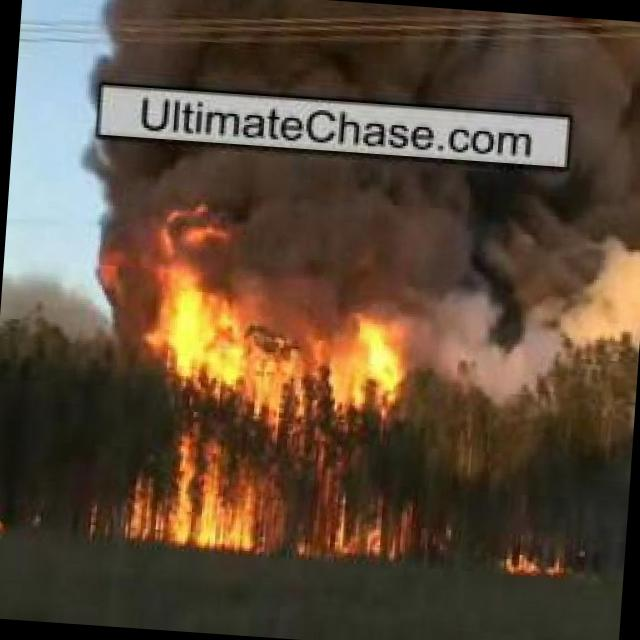Fire: (98, 195, 424, 563), (496, 545, 583, 576)
Smoke: (72, 138, 640, 359), (96, 0, 640, 116)
